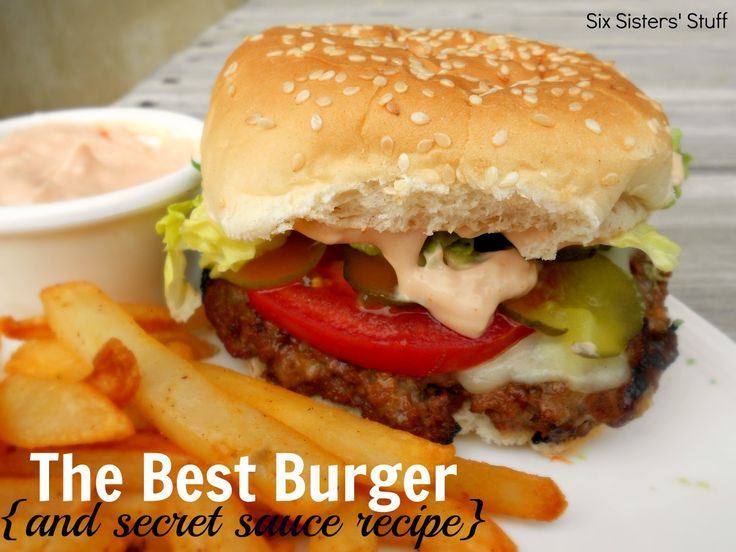hamburger: (185, 23, 691, 439)
